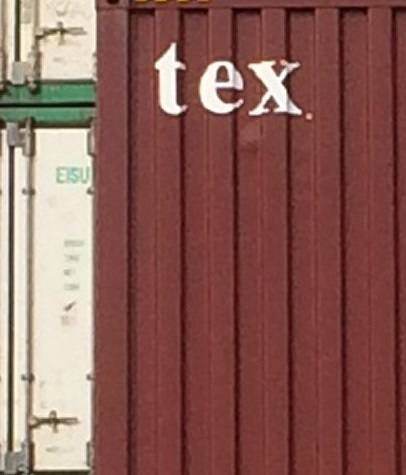container_no_door: (95, 1, 406, 474)
